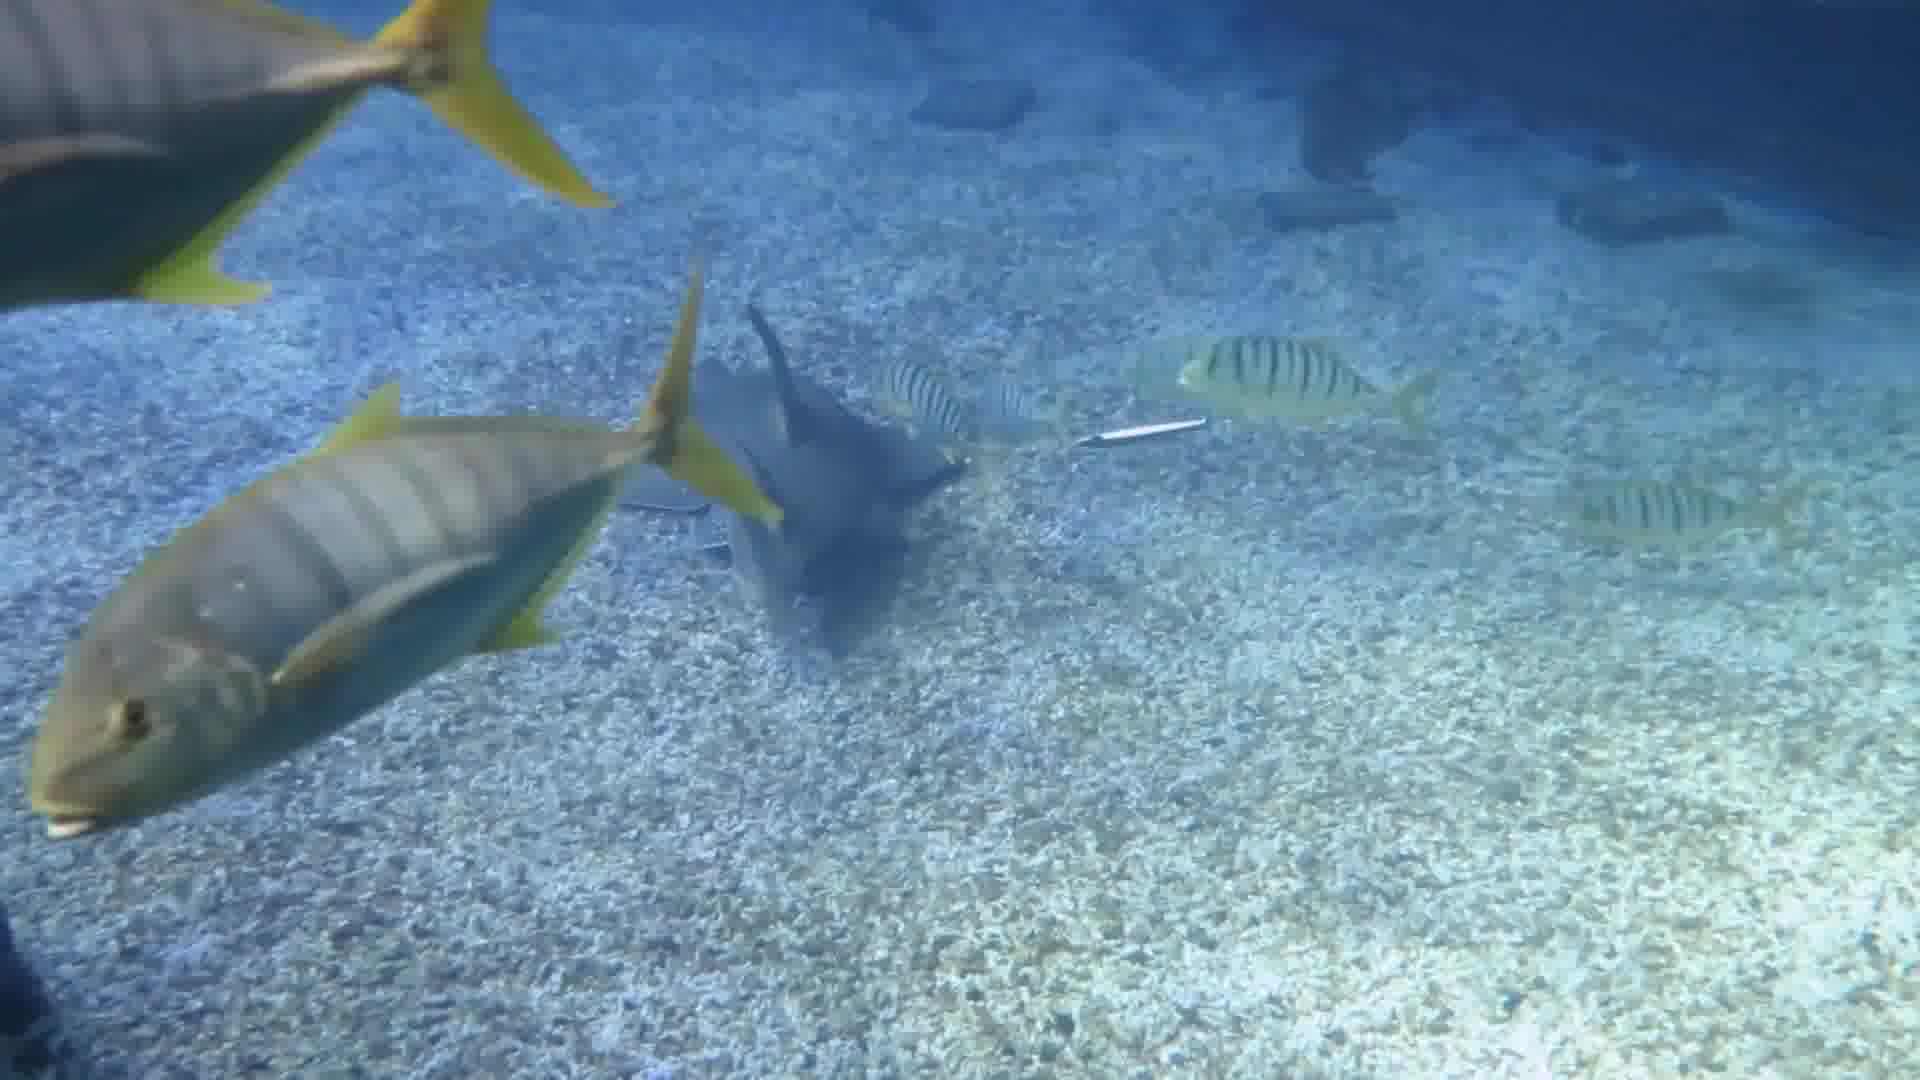Rhychobatus djiddensis: (630, 262, 957, 707)
